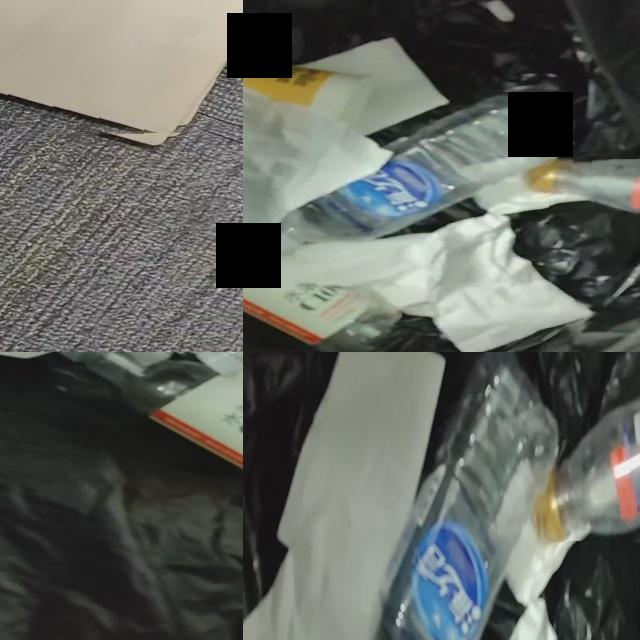bottle: (374, 352, 556, 640), (264, 96, 571, 252), (61, 352, 243, 470), (243, 245, 401, 352), (539, 397, 640, 542), (525, 159, 640, 213)
carton: (0, 0, 243, 136)
dixie_cup: (243, 60, 359, 123)
paper: (243, 352, 444, 640), (281, 214, 592, 352), (243, 90, 391, 248), (305, 38, 449, 135), (490, 458, 584, 606), (461, 150, 580, 215)
